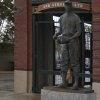Statue: (50, 0, 85, 92)
